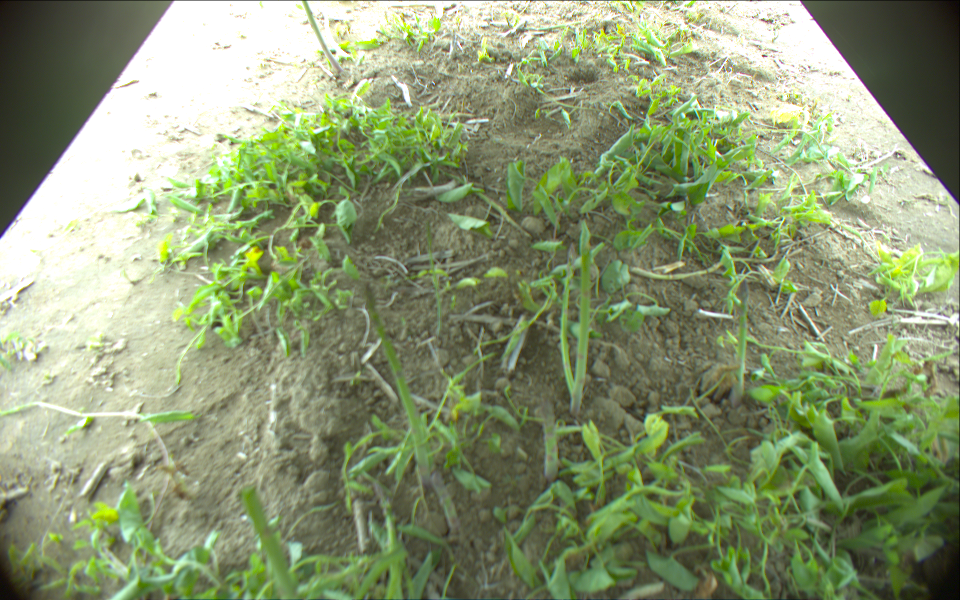aspa: (362, 284, 432, 484), (235, 486, 294, 600), (567, 221, 602, 411), (373, 480, 400, 600), (555, 239, 576, 392), (301, 1, 343, 71), (428, 473, 465, 540), (731, 281, 750, 404), (540, 403, 558, 489)
